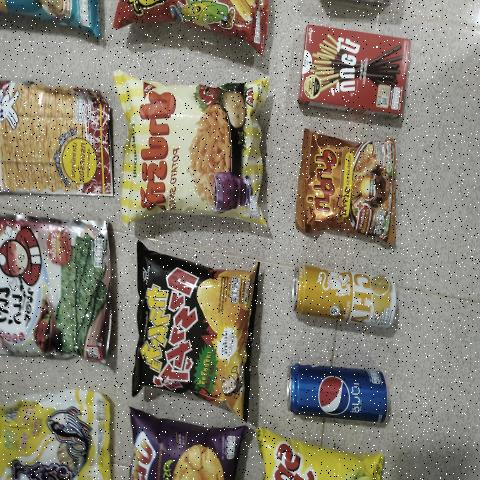bento_red: (0, 88, 107, 194)
karamujo: (135, 265, 251, 397)
mama: (296, 137, 395, 241)
paprika: (122, 92, 259, 210)
party_purple: (134, 413, 242, 480)
pepsi_blue: (284, 370, 387, 421)
pokki: (304, 29, 410, 110)
singha_yellow: (292, 272, 402, 322)
taokaenoi: (0, 217, 107, 362)
